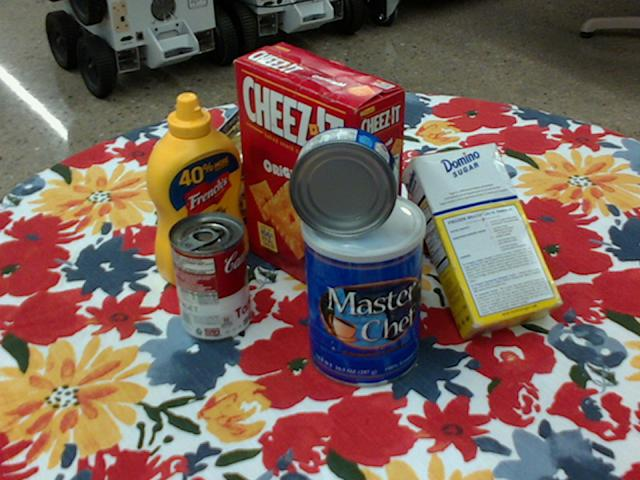cracker_box: (236, 43, 406, 310)
gelatin_box: (272, 130, 353, 206)
large_marker: (212, 86, 271, 145)
master_chef_can: (300, 191, 424, 390)
mug: (401, 152, 491, 257)
mustard_bottle: (145, 93, 247, 285)
potted_meat_can: (189, 130, 283, 235)
sugar_box: (401, 143, 564, 343)
tomato_soup_can: (167, 211, 250, 341)
tuna_fish_can: (289, 126, 399, 238)
